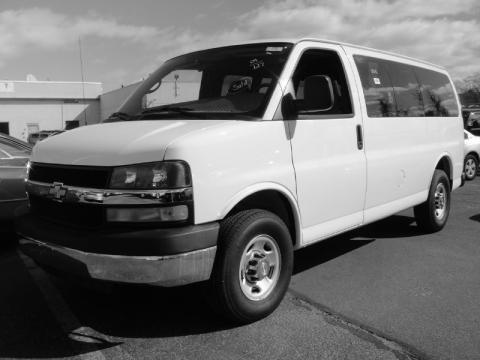car: (8, 36, 469, 328)
